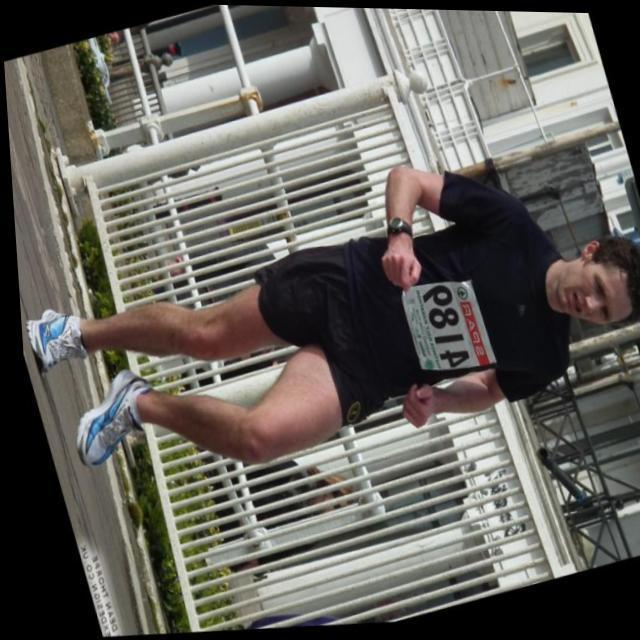dorsal: (380, 260, 501, 401)
